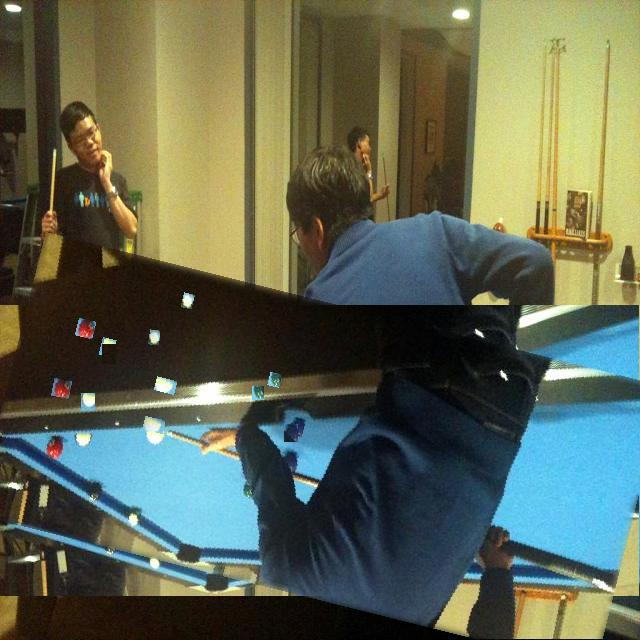Ball: (52, 379, 72, 399), (142, 417, 164, 433), (102, 344, 116, 364), (81, 393, 95, 411), (284, 424, 298, 442), (252, 386, 264, 400), (149, 330, 160, 345)
Billiard table: (0, 268, 640, 632)
